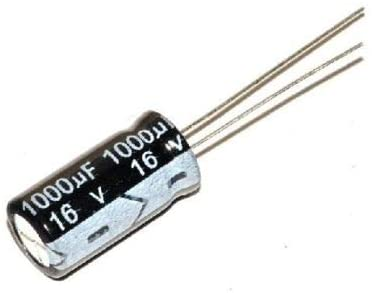capacitor: (4, 63, 212, 293)
